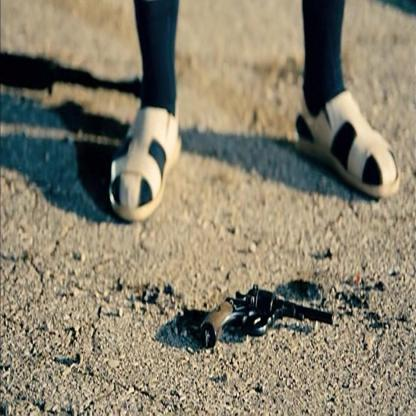gun: (212, 250, 339, 367)
